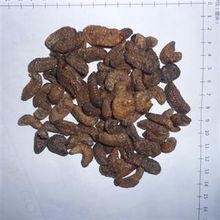grub: (27, 26, 197, 188)
